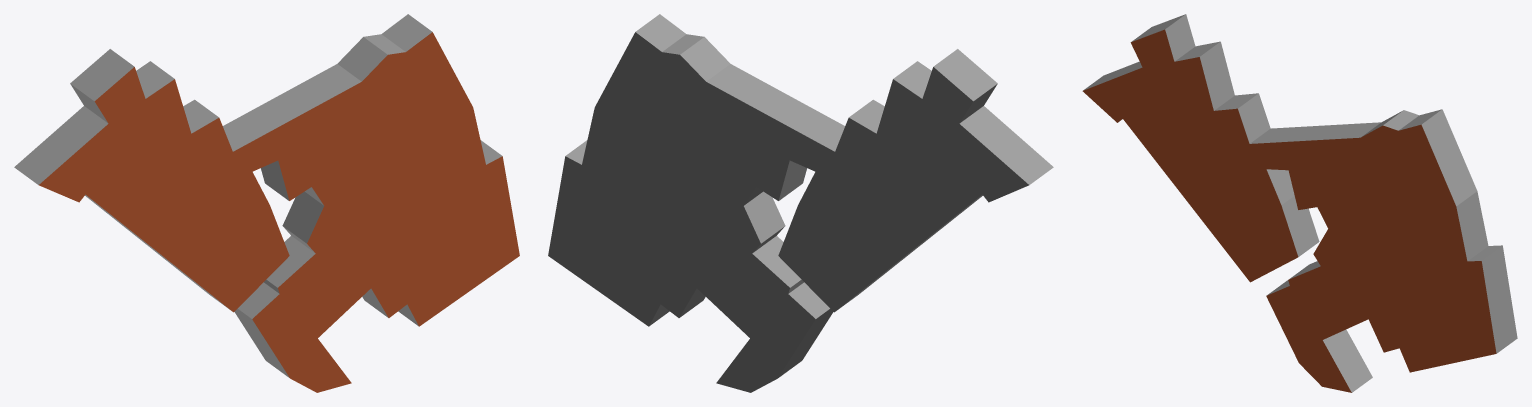
File: construction_2772_assumed_A_Casa_h6m.obj
The picture shows the model from 3 angles, left to right: view 1: azimuth 30°, elevation 25°; view 2: azimuth 150°, elevation 25°; view 3: azimuth 330°, elevation 25°; orthographic projection. The views are drawn at different scales.
Parts seen in each view (by area): view 1: construction_2772_assumed_A_Casa; view 2: construction_2772_assumed_A_Casa; view 3: construction_2772_assumed_A_Casa.
Boxes of the visible parts, x1,y1,x2,y2 form: construction_2772_assumed_A_Casa: (14,14,519,392); construction_2772_assumed_A_Casa: (548,14,1053,392); construction_2772_assumed_A_Casa: (1082,14,1517,392).
Size of the model in its own units: 68.02 by 50.06 by 6.
